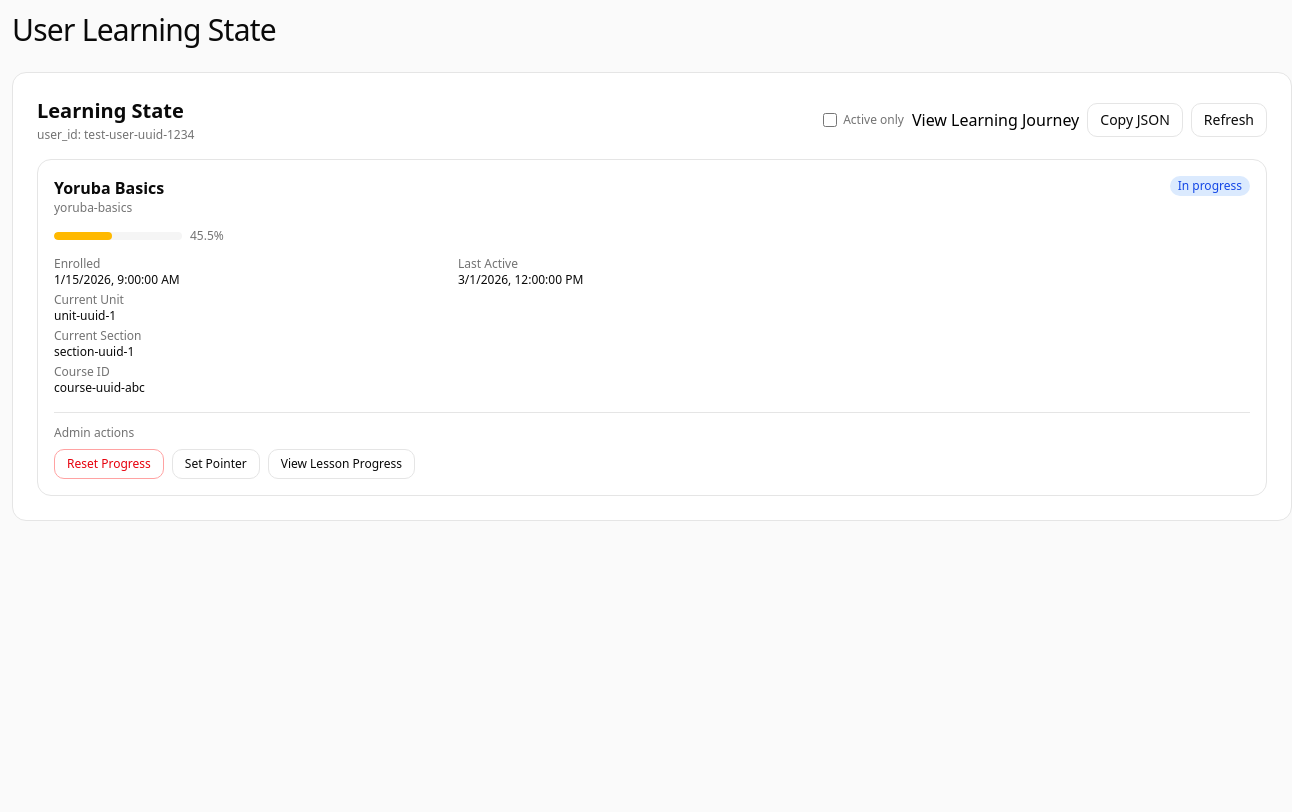
Test case: UserLearningStatePage › View Lesson Progress button toggles the per-lesson panel
Expected: the text "First Yoruba Phrase" is not shown
Click the button "View Lesson Progress".
click(341, 464)  # box [268,449,415,479]
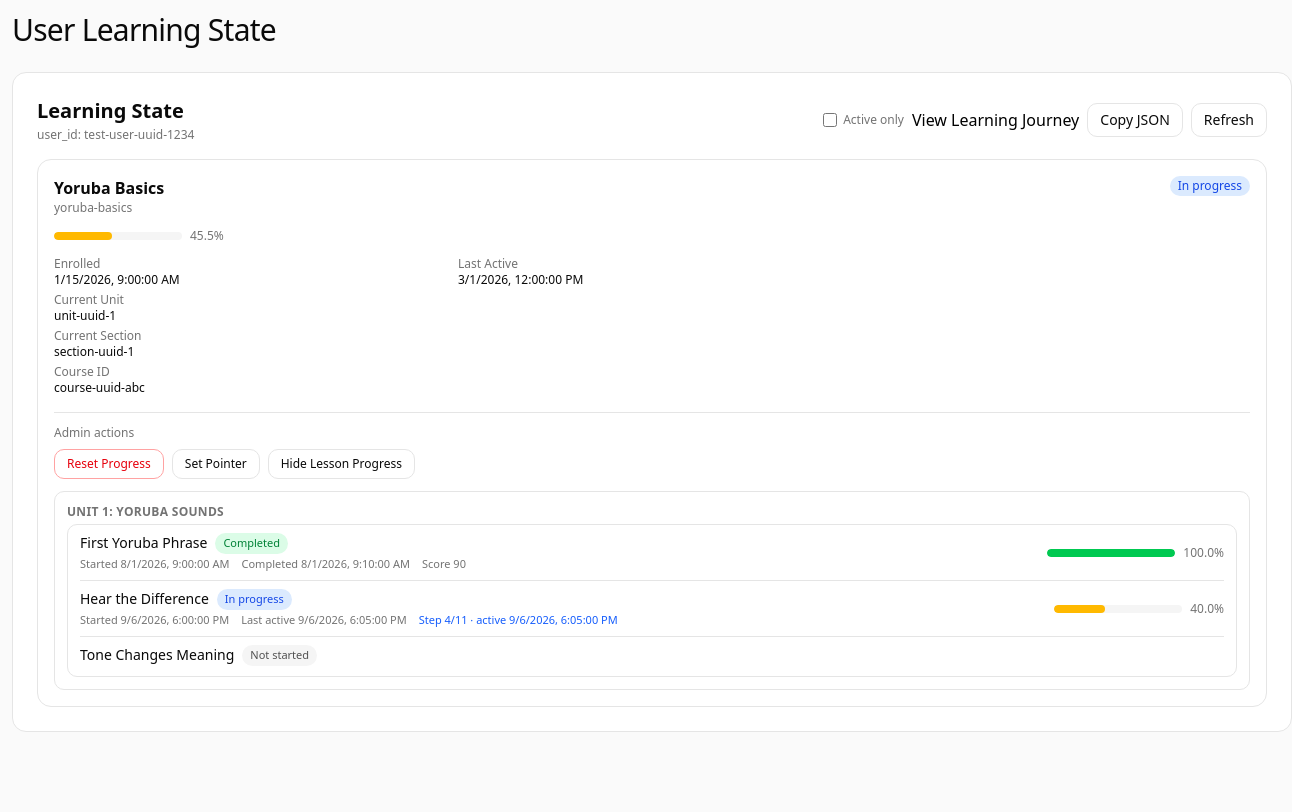
Expected: the text "Unit 1: Yoruba Sounds" is shown, [67,503,224,520]
Expected: the text "First Yoruba Phrase" is shown, [80,533,207,553]
Expected: the text "Hear the Difference" is shown, [80,589,209,609]
Click the button "Hide Lesson Progress".
click(341, 464)  # box [268,449,415,479]
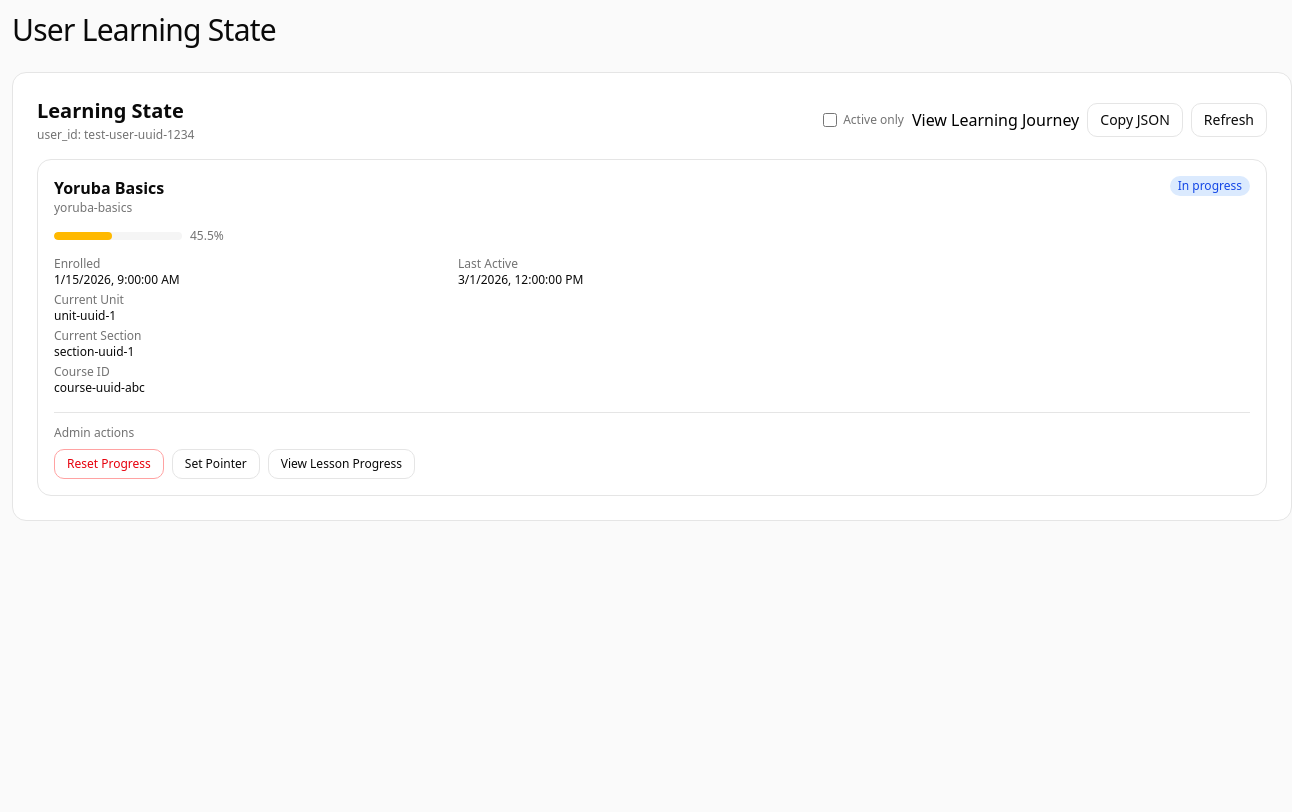
Expected: the text "First Yoruba Phrase" is gone
